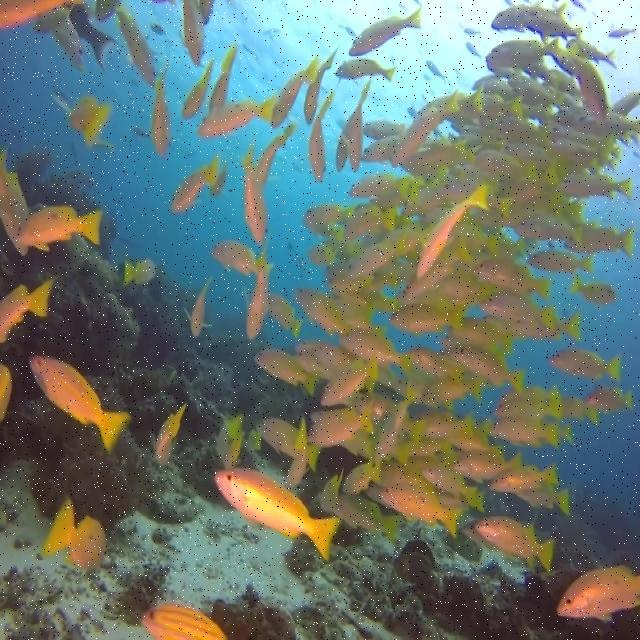fish: (380, 161, 499, 480), (420, 64, 563, 151), (214, 469, 343, 562), (28, 354, 133, 454), (464, 176, 600, 233), (415, 183, 491, 280), (326, 257, 416, 332), (376, 476, 469, 539), (390, 87, 461, 167), (412, 248, 505, 308), (308, 210, 407, 265), (557, 565, 639, 623), (42, 497, 106, 570), (474, 516, 554, 573), (13, 204, 103, 251), (404, 238, 472, 299), (561, 42, 607, 129), (446, 345, 526, 395), (348, 4, 423, 56), (503, 146, 605, 184), (308, 392, 377, 448), (271, 54, 322, 129), (198, 92, 279, 139), (373, 380, 418, 463), (69, 6, 122, 74), (334, 494, 402, 546), (0, 278, 54, 343), (115, 3, 155, 88), (471, 257, 550, 300), (254, 348, 323, 396), (295, 287, 356, 341), (340, 329, 413, 374), (434, 179, 514, 219), (238, 144, 269, 247), (0, 151, 30, 257), (479, 291, 558, 331), (140, 602, 227, 638), (345, 232, 409, 280), (480, 312, 580, 342), (320, 355, 377, 407), (304, 44, 340, 126), (547, 347, 623, 384), (150, 400, 192, 466), (172, 155, 219, 213), (255, 122, 296, 188), (420, 465, 480, 509), (343, 78, 371, 172), (405, 206, 451, 263), (308, 89, 336, 182), (563, 224, 635, 260), (523, 63, 583, 106), (401, 143, 484, 174), (453, 450, 522, 485), (448, 317, 513, 354), (390, 303, 467, 334), (524, 3, 583, 42), (484, 38, 560, 68), (179, 55, 214, 120), (69, 95, 111, 149), (559, 169, 632, 200), (50, 13, 88, 72), (514, 214, 584, 246), (243, 254, 269, 340), (208, 41, 239, 113), (486, 417, 560, 447), (150, 62, 173, 158), (256, 414, 305, 459), (489, 462, 560, 493), (475, 149, 540, 181), (574, 108, 639, 138), (283, 416, 310, 488), (178, 0, 207, 67), (545, 137, 613, 165), (411, 349, 465, 384), (539, 119, 609, 146), (440, 333, 505, 362), (495, 391, 562, 419), (446, 222, 501, 256), (494, 118, 552, 150), (499, 229, 538, 276), (515, 483, 570, 516), (335, 57, 397, 86), (569, 271, 620, 306), (213, 414, 246, 468), (422, 377, 485, 405), (414, 410, 475, 438), (348, 172, 413, 198), (344, 206, 395, 239), (212, 239, 256, 276), (186, 276, 212, 338), (527, 250, 592, 274), (566, 38, 618, 68), (448, 434, 505, 461), (302, 202, 358, 229), (312, 344, 367, 371), (492, 2, 541, 32), (270, 294, 303, 338), (508, 80, 563, 106), (403, 188, 454, 215), (294, 348, 337, 380), (445, 84, 483, 120), (340, 428, 376, 466), (342, 460, 382, 494), (393, 377, 438, 407), (609, 132, 639, 174), (357, 389, 394, 422), (587, 386, 632, 412), (319, 466, 344, 512), (497, 384, 557, 403), (409, 438, 457, 461), (361, 134, 400, 162), (355, 195, 404, 217), (336, 112, 353, 174), (123, 258, 157, 288), (562, 396, 598, 424), (400, 411, 427, 448), (553, 52, 582, 86), (362, 120, 405, 140), (367, 363, 395, 393), (613, 88, 639, 116), (553, 106, 588, 126), (0, 365, 12, 422), (415, 96, 449, 116), (510, 438, 560, 448), (296, 340, 329, 352), (475, 419, 490, 444), (559, 421, 573, 445), (247, 429, 261, 450), (475, 490, 486, 513), (608, 28, 636, 37)
